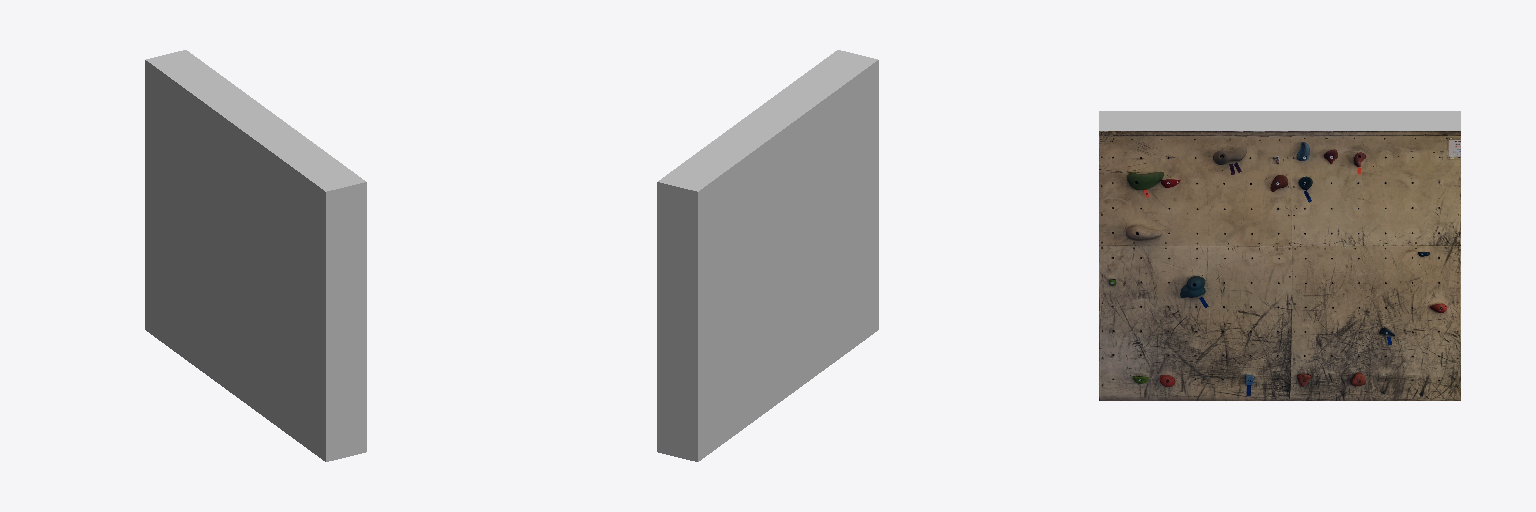
The picture shows the model from 3 angles: view 1: azimuth 30°, elevation 25°; view 2: azimuth 150°, elevation 25°; view 3: azimuth 270°, elevation 25°; orthographic projection.
Parts seen in each view (by area): view 1: Cube; view 2: Cube; view 3: Cube.
Boxes of the visible parts, x1=… form: Cube: x1=145, y1=50, x2=366, y2=461; Cube: x1=657, y1=50, x2=878, y2=461; Cube: x1=1099, y1=111, x2=1460, y2=400.
Bounding box in the file's own units: 0.3 × 1.9 × 2.3.
2 materials, 1 textured.